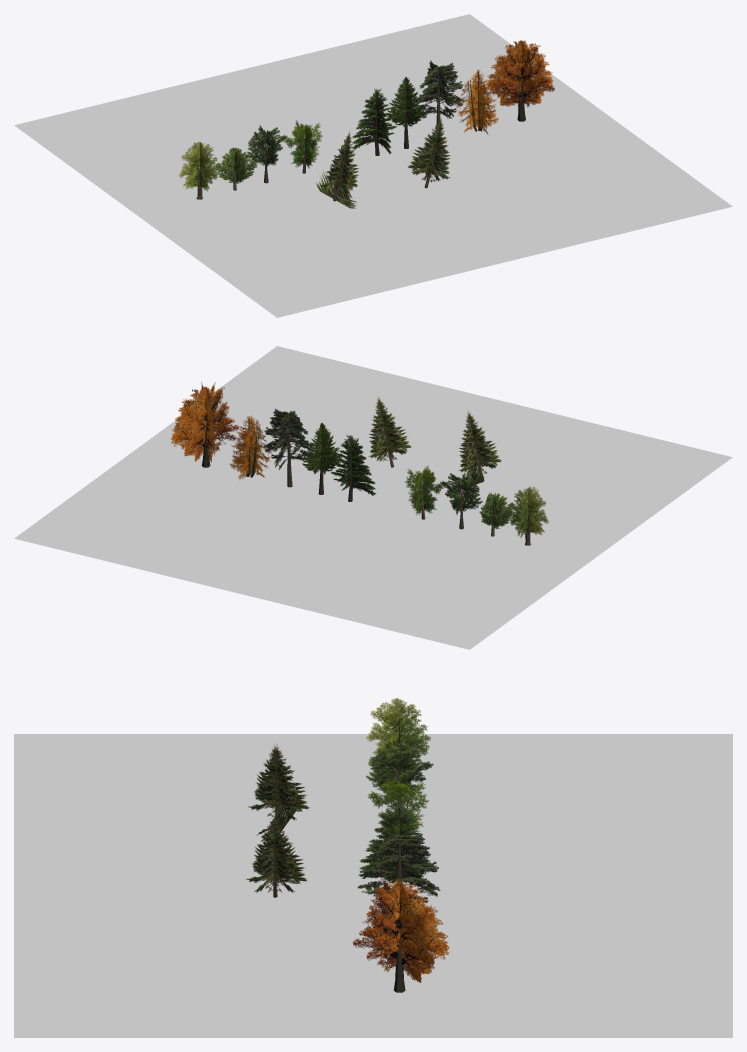
The model's file is Trees.glb.
The picture shows the model from 3 angles, top to bottom: view 1: azimuth 30°, elevation 25°; view 2: azimuth 150°, elevation 25°; view 3: azimuth 270°, elevation 25°; orthographic projection. The views are drawn at different scales.
Visible parts, largest first — view 1: Plane, Large_Tree_Autumn_02, Large_Tree_Pine_02, Large_Tree_Spruce_01.002, Large_Tree_Spruce_02, Large_Tree_Autumn_01, Large_Tree_Spruce_01.001, Large_Tree_Green_01, Large_Tree_Pine_01, Large_Tree_Green_04, Large_Tree_Green_03, Large_Tree_Green_02; view 2: Plane, Large_Tree_Autumn_02, Large_Tree_Pine_02, Large_Tree_Spruce_01.002, Large_Tree_Autumn_01, Large_Tree_Spruce_01.001, Large_Tree_Spruce_02, Large_Tree_Green_01, Large_Tree_Pine_01, Large_Tree_Green_04, Large_Tree_Green_03, Large_Tree_Green_02; view 3: Plane, Large_Tree_Autumn_02, Large_Tree_Pine_02, Large_Tree_Spruce_01.002, Large_Tree_Spruce_01.001, Large_Tree_Green_01, Large_Tree_Green_03, Large_Tree_Green_04, Large_Tree_Spruce_02, Large_Tree_Pine_01, Large_Tree_Green_02.
Part boxes in pixels (bbox=[...]): Plane: bbox=[14, 14, 732, 317]; Large_Tree_Autumn_02: bbox=[487, 40, 554, 121]; Large_Tree_Pine_02: bbox=[414, 60, 463, 126]; Large_Tree_Spruce_01.002: bbox=[316, 131, 358, 208]; Large_Tree_Spruce_02: bbox=[352, 88, 397, 155]; Large_Tree_Autumn_01: bbox=[456, 69, 498, 134]; Large_Tree_Spruce_01.001: bbox=[408, 118, 450, 188]; Large_Tree_Green_01: bbox=[178, 142, 219, 199]; Large_Tree_Pine_01: bbox=[387, 77, 426, 148]; Large_Tree_Green_04: bbox=[284, 120, 322, 173]; Large_Tree_Green_03: bbox=[245, 125, 287, 183]; Large_Tree_Green_02: bbox=[215, 147, 257, 190]; Plane: bbox=[14, 346, 732, 649]; Large_Tree_Autumn_02: bbox=[171, 381, 238, 467]; Large_Tree_Pine_02: bbox=[263, 408, 314, 487]; Large_Tree_Spruce_01.002: bbox=[458, 411, 501, 484]; Large_Tree_Autumn_01: bbox=[229, 415, 271, 479]; Large_Tree_Spruce_01.001: bbox=[368, 397, 411, 467]; Large_Tree_Spruce_02: bbox=[330, 434, 375, 501]; Large_Tree_Green_01: bbox=[508, 486, 549, 545]; Large_Tree_Pine_01: bbox=[302, 423, 342, 494]; Large_Tree_Green_04: bbox=[405, 466, 443, 519]; Large_Tree_Green_03: bbox=[440, 473, 482, 529]; Large_Tree_Green_02: bbox=[479, 492, 513, 536]; Plane: bbox=[14, 734, 732, 1037]; Large_Tree_Autumn_02: bbox=[352, 878, 449, 992]; Large_Tree_Pine_02: bbox=[357, 833, 440, 902]; Large_Tree_Spruce_01.002: bbox=[248, 744, 309, 843]; Large_Tree_Spruce_01.001: bbox=[246, 816, 307, 897]; Large_Tree_Green_01: bbox=[366, 698, 430, 759]; Large_Tree_Green_03: bbox=[366, 747, 433, 804]; Large_Tree_Green_04: bbox=[367, 777, 428, 834]; Large_Tree_Spruce_02: bbox=[358, 803, 430, 878]; Large_Tree_Pine_01: bbox=[369, 816, 424, 884]; Large_Tree_Green_02: bbox=[368, 740, 417, 797].
Size of the model in its own units: 95.69 by 19 by 95.69.
3 materials, 3 textured.
